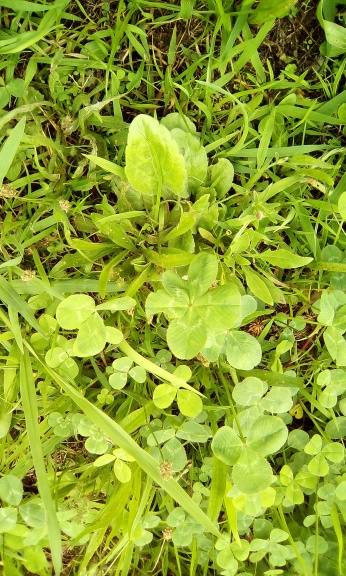4leaf: (145, 251, 241, 361)
